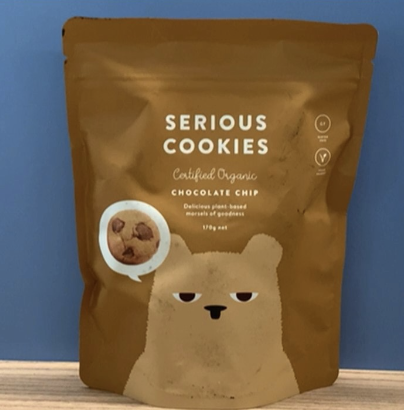cookies_150g: (100, 110, 339, 374)
